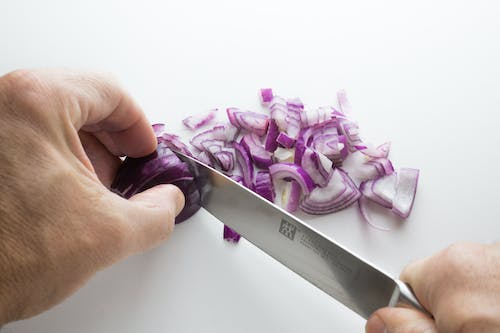knife: (170, 148, 436, 321)
